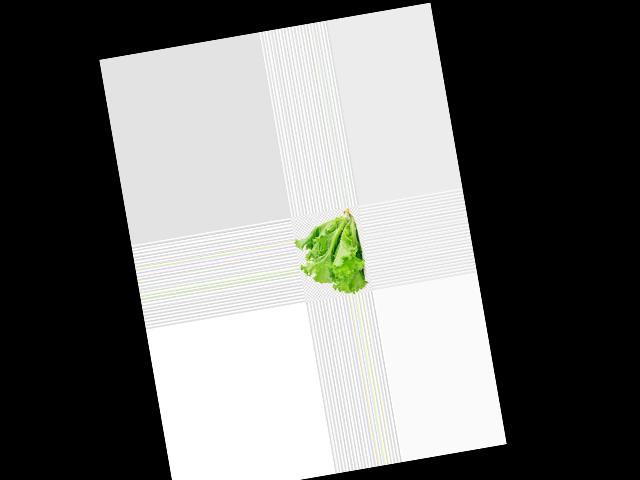lettuce: (291, 207, 367, 301)
